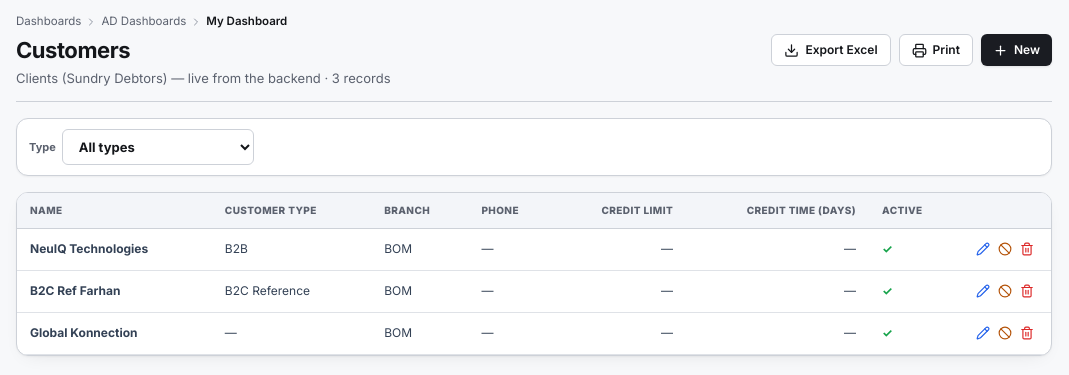
Test: Customers master — Client Type filter › picking a type narrows the list to that type only
Select "B2B" in the dropdown at (158, 147), box x1=62 y1=129 x2=254 y2=165
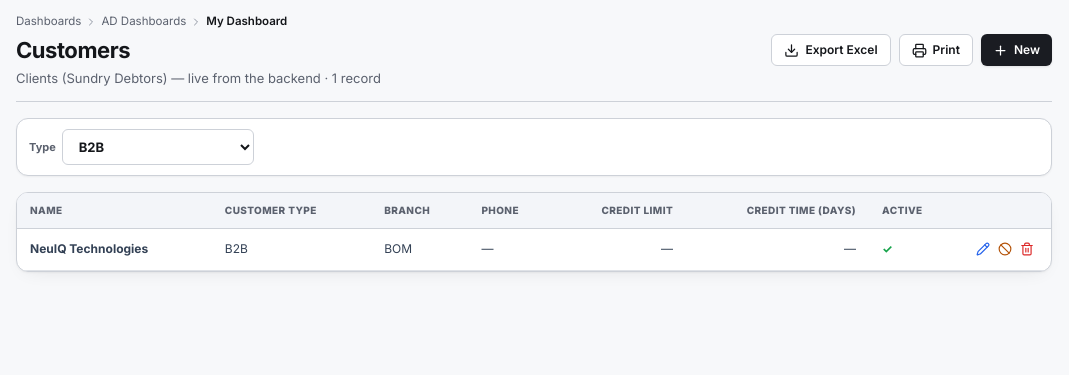
Expected: the text "NeuIQ Technologies" is shown, x1=17 y1=228 x2=212 y2=270
Expected: the text "B2C Ref Farhan" is gone
Expected: the text "Global Konnection" is gone
